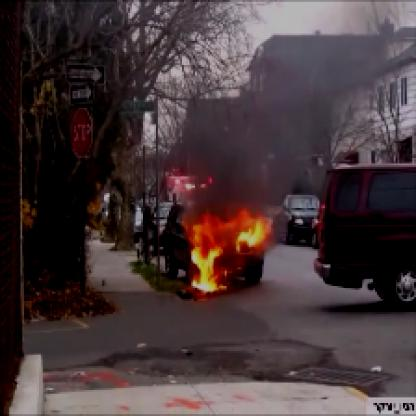Fire: (167, 191, 268, 299)
